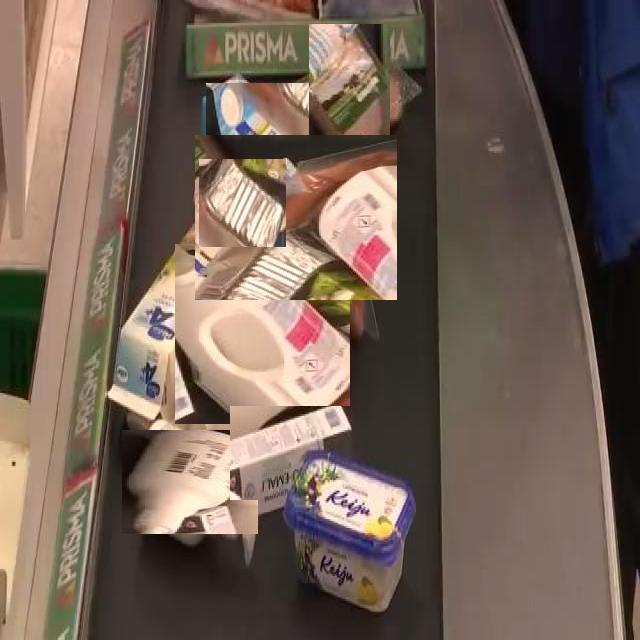beverage: (173, 245, 351, 423), (123, 222, 245, 439), (205, 82, 356, 208)
food-box: (204, 125, 388, 309), (295, 456, 400, 604), (288, 45, 411, 167), (198, 158, 286, 247)
utility-box: (129, 422, 250, 543), (230, 406, 356, 501)
